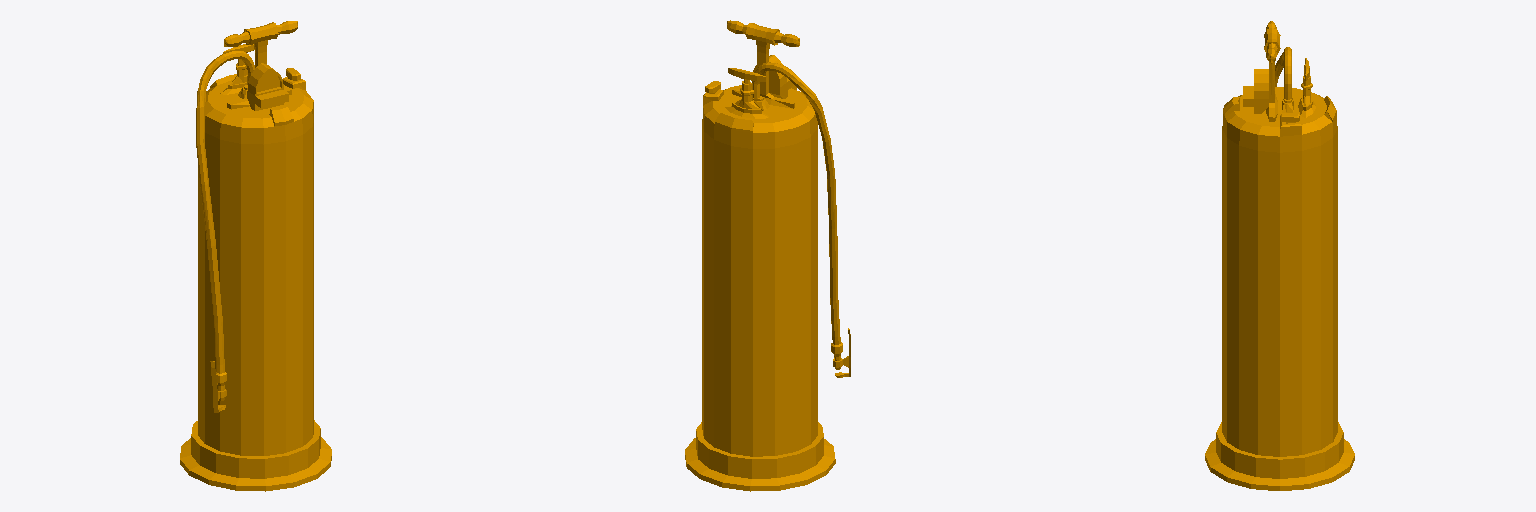
robot.urdf — mesh_object:
<?xml version="1.0" ?>
<robot name="mesh_object">
  <link name="base">
    <visual>
      <geometry>
        <mesh filename="fire_extinguisher_0.obj" scale="1 1 1"/>
      </geometry>
    </visual>
    <collision>
      <geometry>
        <mesh filename="fire_extinguisher_0.obj" scale="1 1 1"/>
      </geometry>
    </collision>
    <inertial>
      <origin xyz="0.005266 0.003104 0.113306" rpy="0 0 0"/>
      <mass value="0.5"/>
      <inertia ixx="0.01" iyy="0.01" izz="0.01" ixy="0" ixz="0" iyz="0"/>
    </inertial>
  </link>
</robot>

--- Render facts (derived) ---
Views: 3 orthographic renders of the robot side by side, from view 1: azimuth 30°, elevation 25°; view 2: azimuth 150°, elevation 25°; view 3: azimuth 270°, elevation 25°.
Model mesh_object with 1 links and 0 joints (none), rooted at base, posed all joints at 0.
Visible links, largest first — view 1: base; view 2: base; view 3: base.
Link boxes in pixels (left/top/right/bottom): base: left=180, top=21, right=331, bottom=491; base: left=685, top=20, right=850, bottom=491; base: left=1205, top=21, right=1354, bottom=490.
Bounding box of the posed robot: 0.0736 × 0.0726 × 0.2266 m (x, y, z).
1 mesh visuals loaded from 1 distinct referenced files (1 OBJ).
